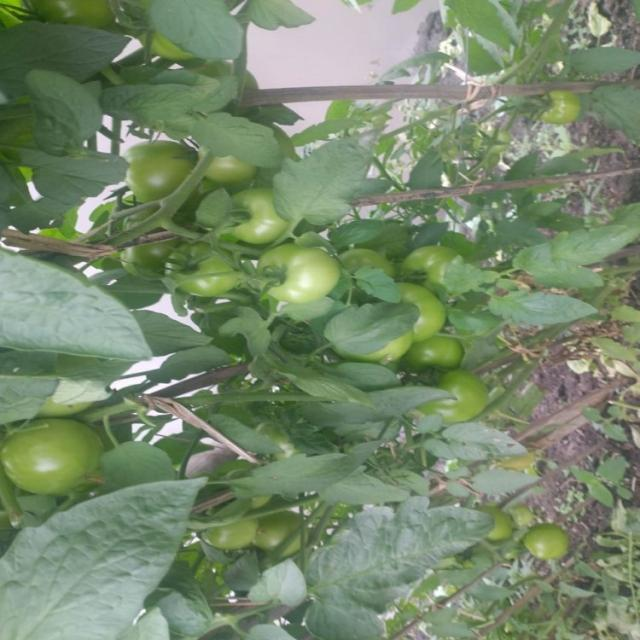tomato: (1, 395, 118, 507), (167, 232, 256, 305), (129, 135, 204, 209), (262, 243, 347, 308), (423, 377, 499, 446), (199, 498, 264, 564), (250, 495, 311, 558), (225, 183, 283, 242), (405, 231, 467, 286), (394, 281, 453, 337), (537, 77, 595, 133), (105, 230, 169, 279), (529, 510, 578, 571), (349, 239, 405, 289), (416, 331, 470, 378), (481, 502, 521, 560), (472, 113, 519, 158)
